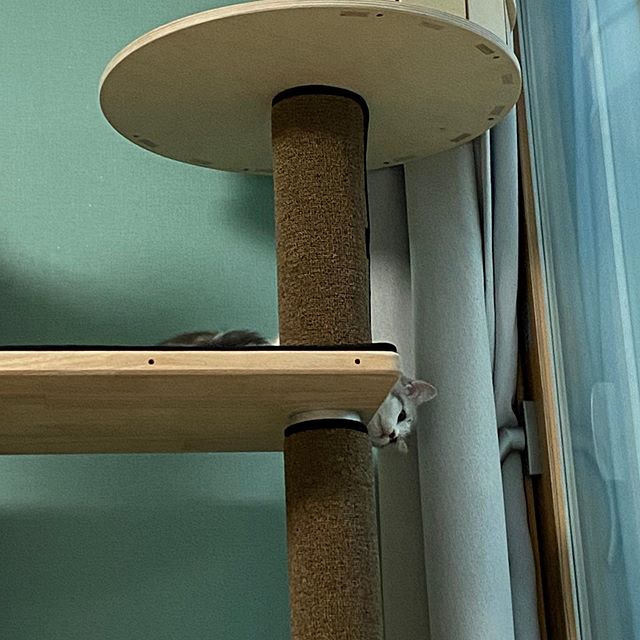cat: (362, 365, 441, 457)
